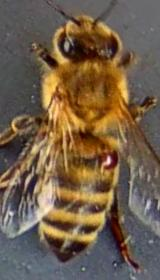varroa_mite: (88, 141, 132, 177)
